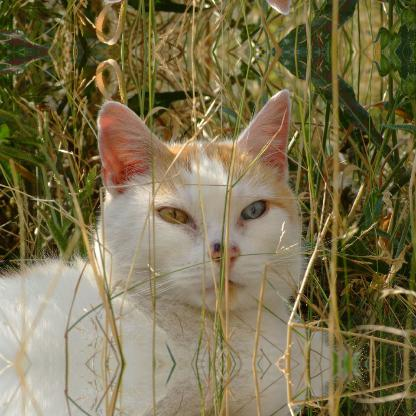Cat: (0, 87, 354, 363)
